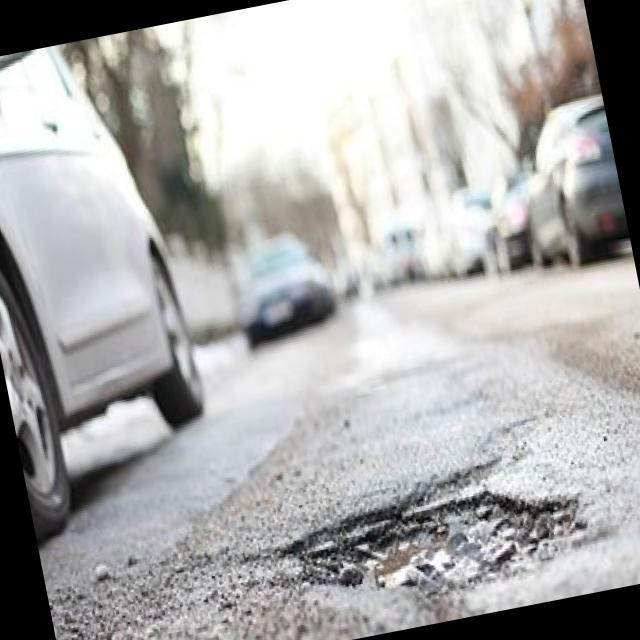Pothole: (283, 450, 599, 616)
